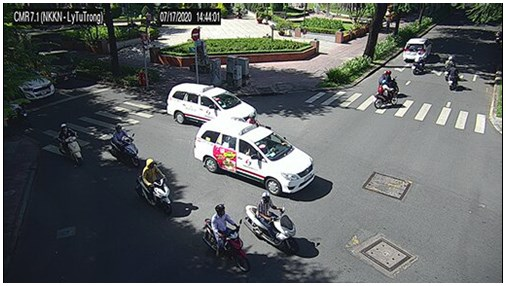xe_ba_gac: (403, 37, 431, 61)
xe_hoi: (11, 68, 54, 101)
xe_may: (243, 192, 297, 254), (202, 204, 250, 272), (136, 158, 173, 212), (110, 124, 140, 168), (58, 123, 85, 167), (375, 79, 398, 108), (378, 70, 400, 95), (448, 64, 459, 90), (445, 56, 455, 81)
xe_tai: (27, 33, 78, 84)
xe_taxi: (193, 118, 315, 197), (167, 81, 258, 128)
